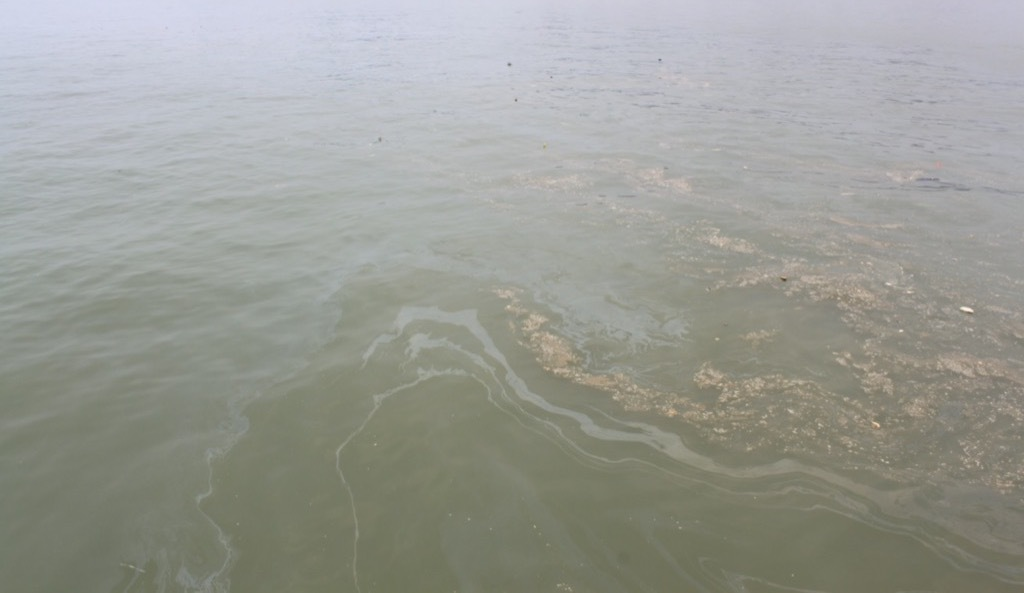organic: (360, 132, 390, 155), (501, 55, 522, 74), (650, 54, 671, 69), (512, 92, 525, 105)
plastic: (947, 291, 982, 328), (767, 263, 797, 292)
